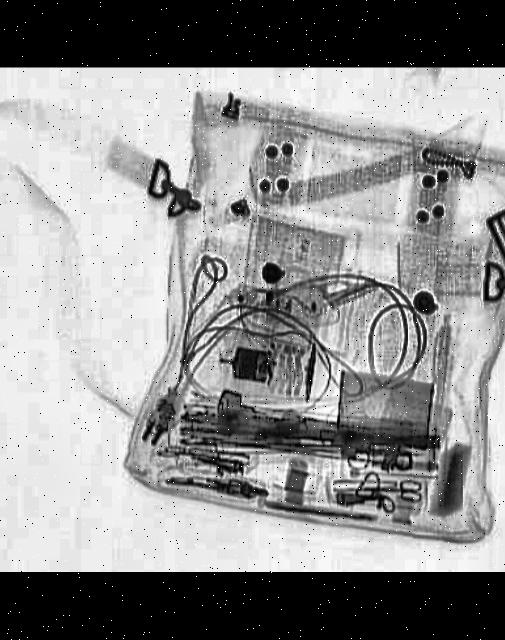Scissors: (349, 475, 420, 500)
